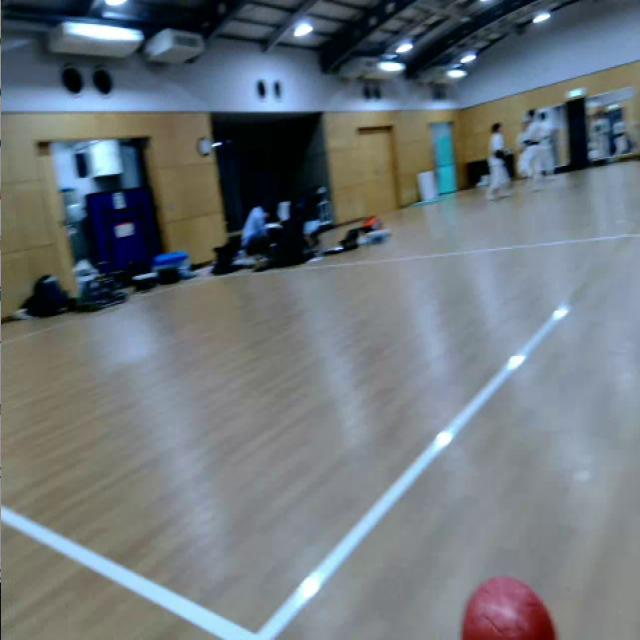red_ball: (461, 577, 558, 640)
